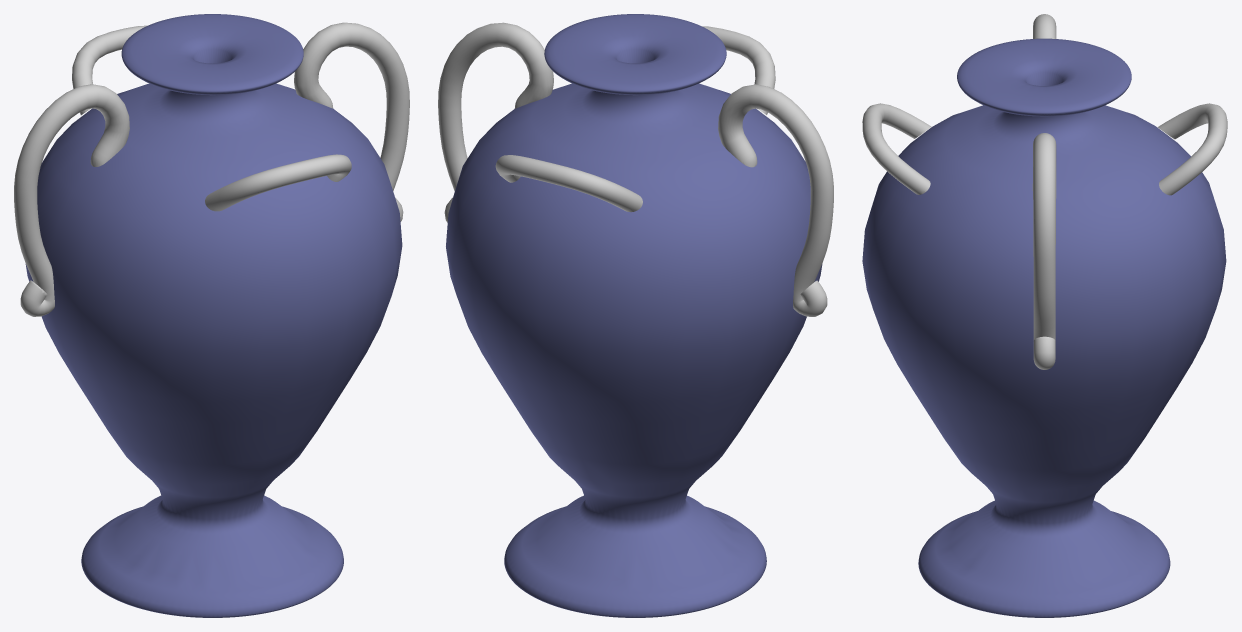
The picture shows the model from 3 angles, left to right: view 1: azimuth 30°, elevation 25°; view 2: azimuth 150°, elevation 25°; view 3: azimuth 270°, elevation 25°; orthographic projection. The views are drawn at different scales.
Parts seen in each view (by area): view 1: hydria_1_Default_object_5, hydria_1_Default_object_1, hydria_1_Default_object_2, hydria_1_Default_object_4, hydria_1_Default_object_3; view 2: hydria_1_Default_object_5, hydria_1_Default_object_1, hydria_1_Default_object_2, hydria_1_Default_object_3, hydria_1_Default_object_4; view 3: hydria_1_Default_object_5, hydria_1_Default_object_2, hydria_1_Default_object_3, hydria_1_Default_object_4, hydria_1_Default_object_1.
Boxes of the visible parts, x1,y1,x2,y2 form: hydria_1_Default_object_5: [25, 14, 402, 617]; hydria_1_Default_object_1: [14, 84, 129, 316]; hydria_1_Default_object_2: [294, 22, 409, 221]; hydria_1_Default_object_4: [205, 154, 351, 211]; hydria_1_Default_object_3: [72, 25, 147, 115]; hydria_1_Default_object_5: [446, 14, 822, 617]; hydria_1_Default_object_1: [718, 84, 833, 316]; hydria_1_Default_object_2: [438, 22, 553, 222]; hydria_1_Default_object_3: [495, 155, 642, 212]; hydria_1_Default_object_4: [702, 26, 775, 114]; hydria_1_Default_object_5: [862, 38, 1226, 617]; hydria_1_Default_object_2: [1032, 133, 1056, 369]; hydria_1_Default_object_3: [1158, 103, 1227, 195]; hydria_1_Default_object_4: [862, 103, 931, 194]; hydria_1_Default_object_1: [1033, 14, 1056, 38].
Bounding box in the file's own units: 116 × 146 × 97.39.
